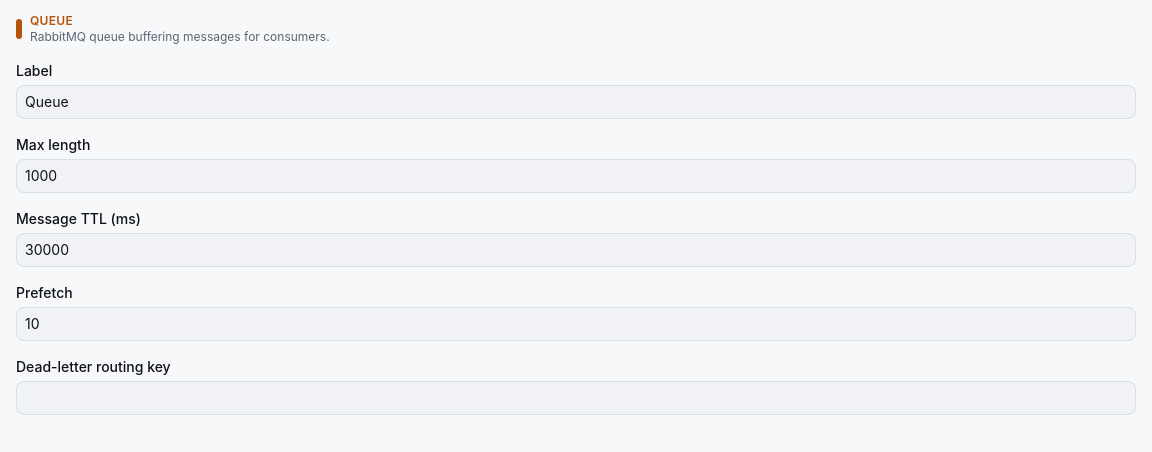
it: NodeInspector › shows an inline error and does not persist an out-of-range number
Replace the text in the number field labelled "Max length" with "-5" at coordinates (576, 176), box x1=16 y1=159 x2=1136 y2=193
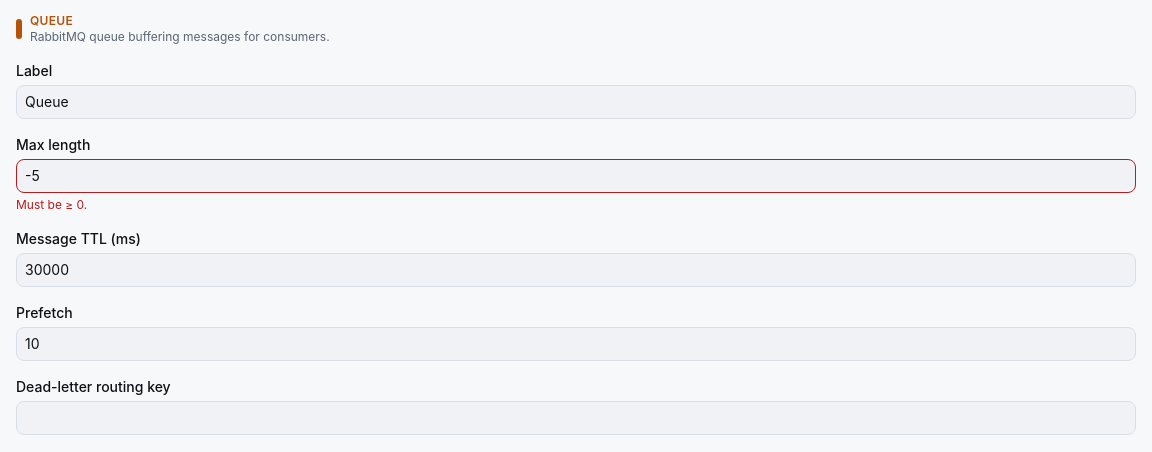
Result: the text "Must be ≥ 0." is shown at x1=16 y1=197 x2=87 y2=212
